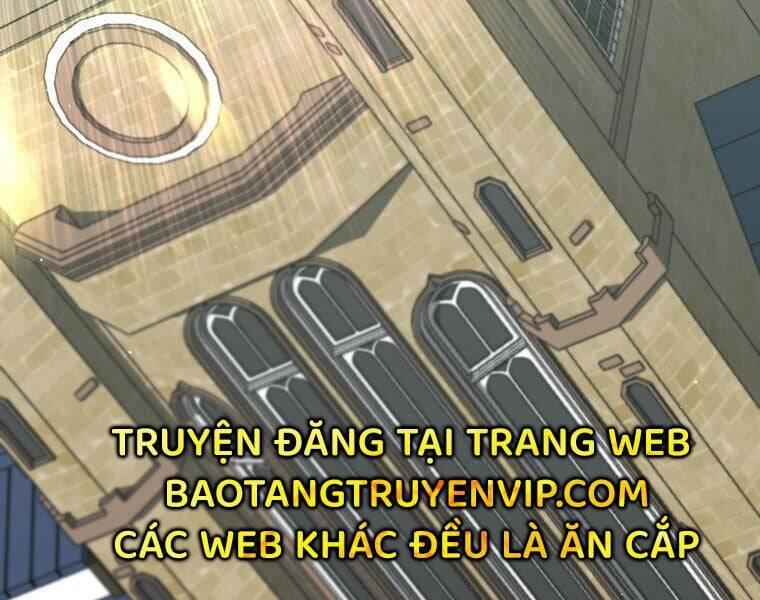quangcao: (108, 417, 702, 564)
